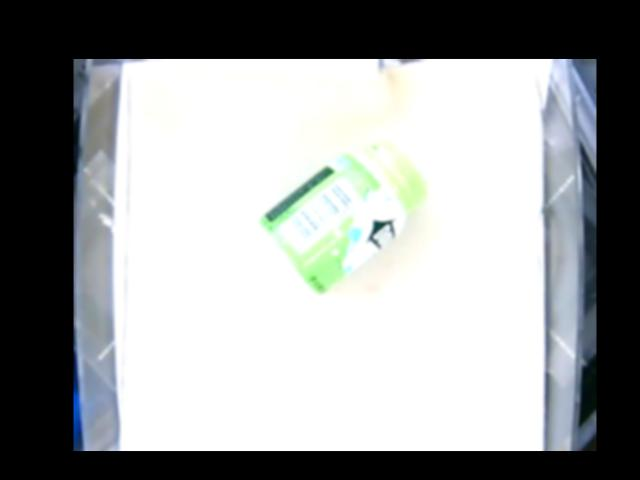Bottle: (258, 138, 426, 298)
